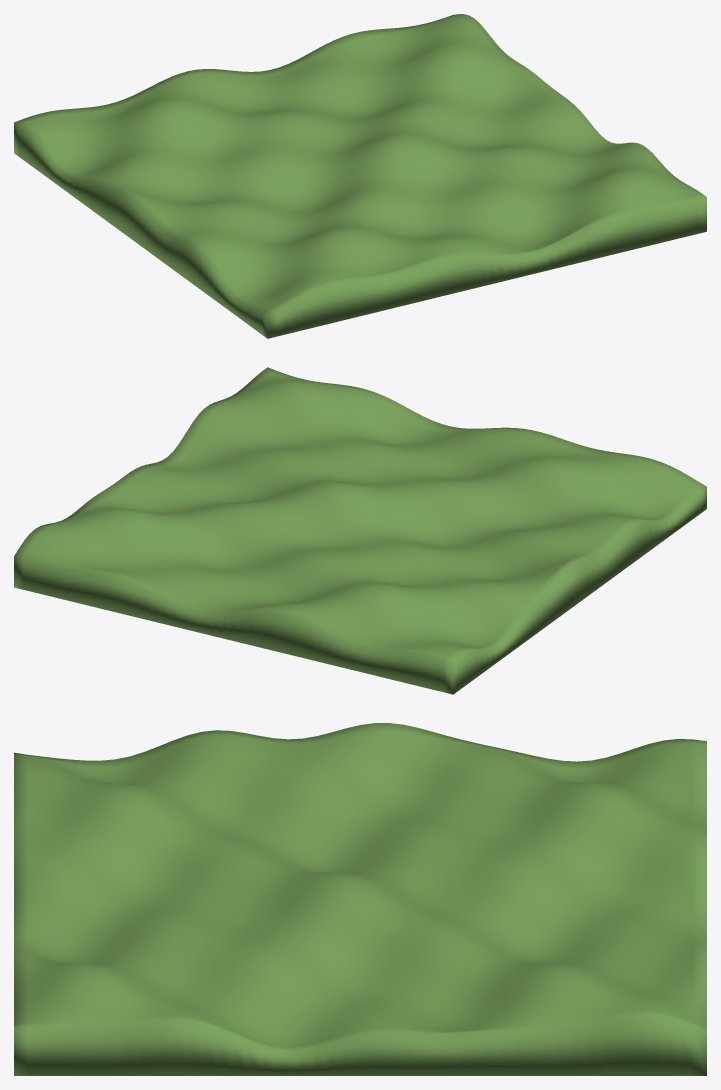
The model's file is Terrain.fbx.
3 renders of one model, top to bottom at view 1: azimuth 30°, elevation 25°; view 2: azimuth 150°, elevation 25°; view 3: azimuth 270°, elevation 25°, orthographic. The views are drawn at different scales.
Parts seen in each view (by area): view 1: Terrain; view 2: Terrain; view 3: Terrain.
Boxes of the visible parts, x1,y1,x2,y2 form: Terrain: [14, 14, 706, 338]; Terrain: [14, 367, 706, 694]; Terrain: [14, 723, 706, 1075].
Bounding box in the file's own units: 60 × 6.37 × 60.
